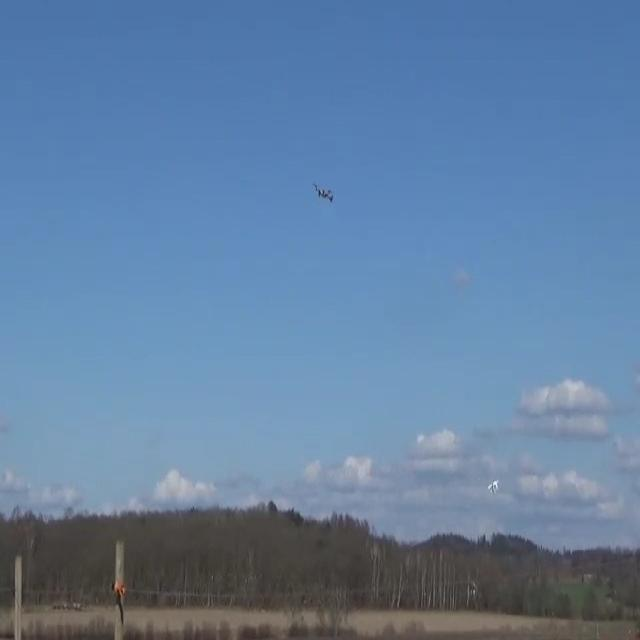drone: (312, 182, 333, 202), (487, 478, 499, 494)
